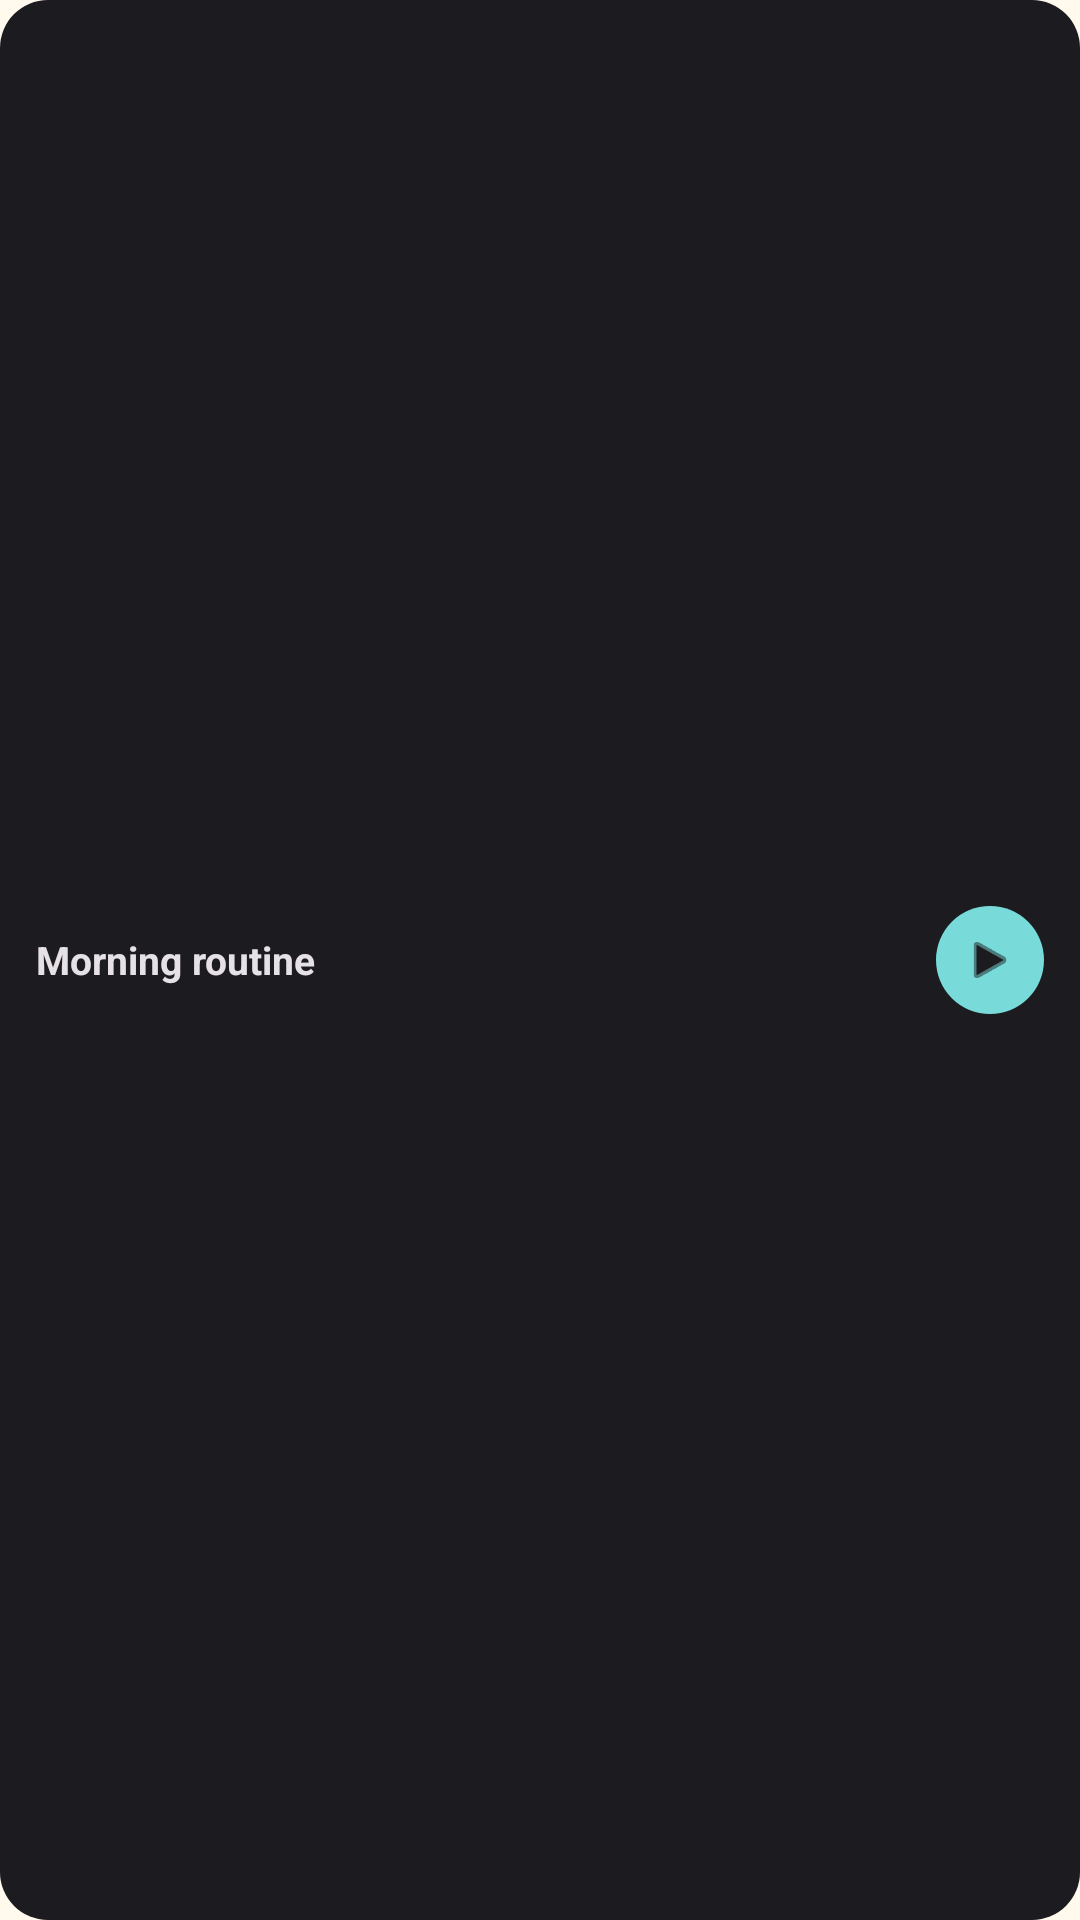

Icon click points for this 1080 × 1920 phone screenshot, format (x,y):
play: (990,960)
